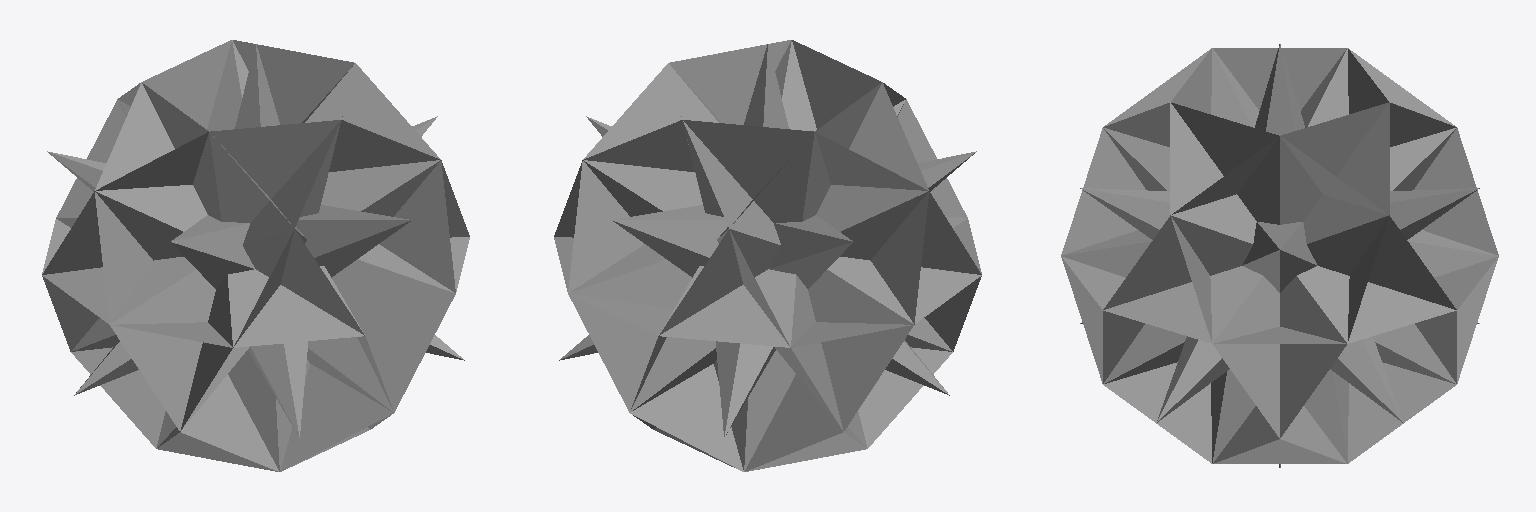
Rendered from crazy.obj.
3 renders of one model, left to right at view 1: azimuth 30°, elevation 25°; view 2: azimuth 150°, elevation 25°; view 3: azimuth 270°, elevation 25°, orthographic.
Parts seen in each view (by area): view 1: Grid; view 2: Grid; view 3: Grid.
Part boxes in pixels (x1,y1,x2,y2): Grid: (42, 40, 469, 471); Grid: (554, 40, 981, 471); Grid: (1061, 44, 1498, 467).
Size of the model in its own units: 1.79 by 2 by 1.86.